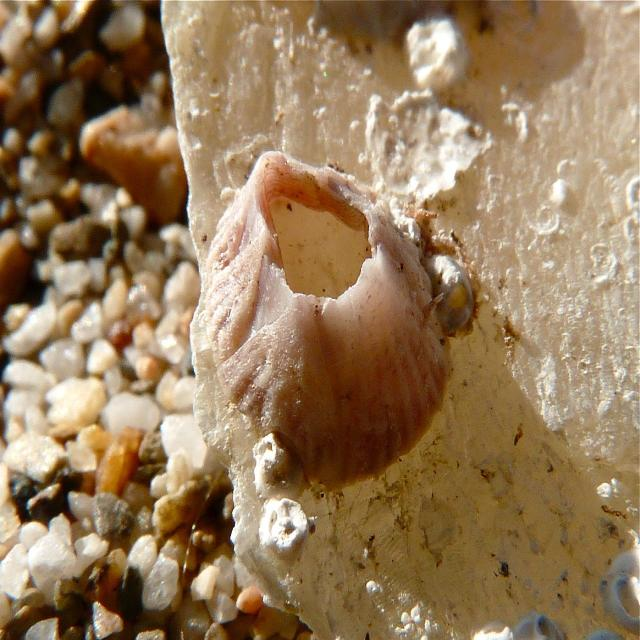barnacles: (186, 145, 473, 508)
